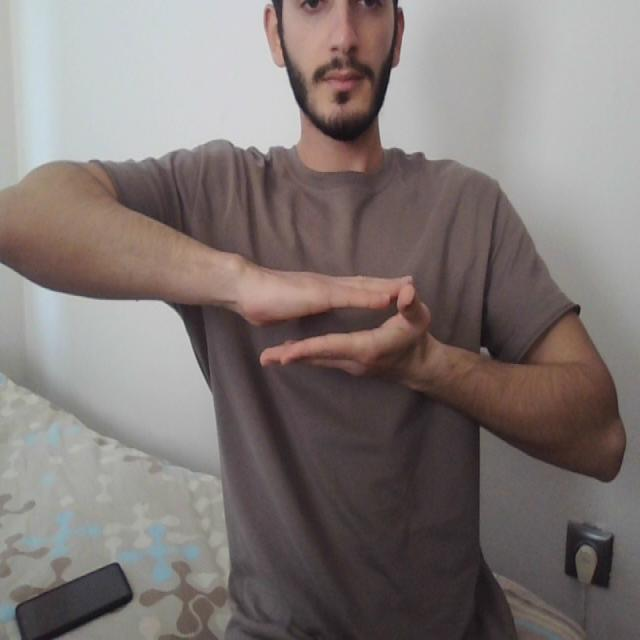Arkadas: (164, 259, 563, 380)
